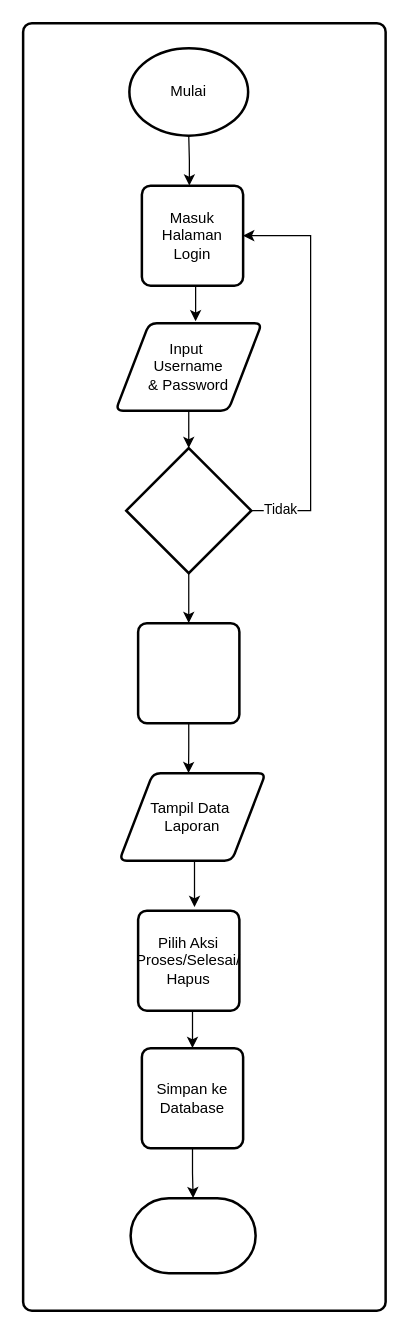
The diagram is 408 pixels wide and 1333 high, and some of its shapes have lost their labels. Each missing label, with the box of its shape:
Login Valid?: (124, 446, 252, 574)
Masuk ke Dashboard: (136, 621, 240, 724)
Selesai: (129, 1196, 256, 1274)
